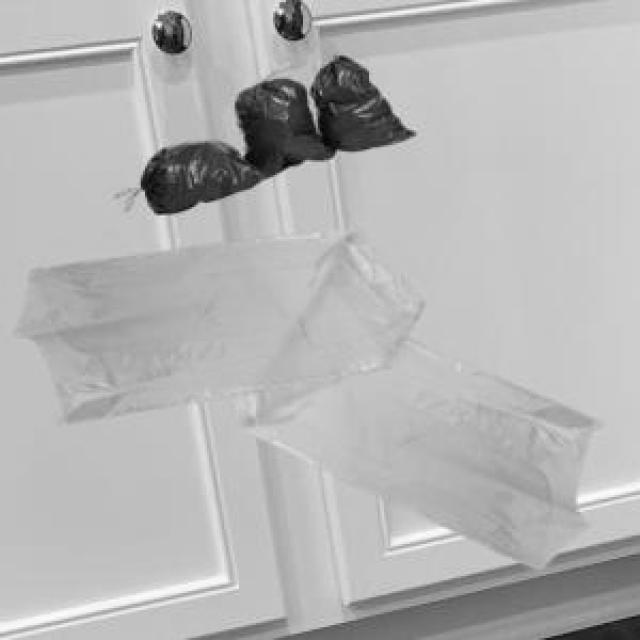miscellaneous trash: (137, 51, 412, 209)
